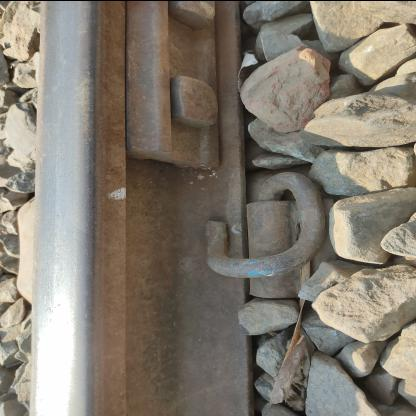Non Defective: (79, 133, 391, 325)
